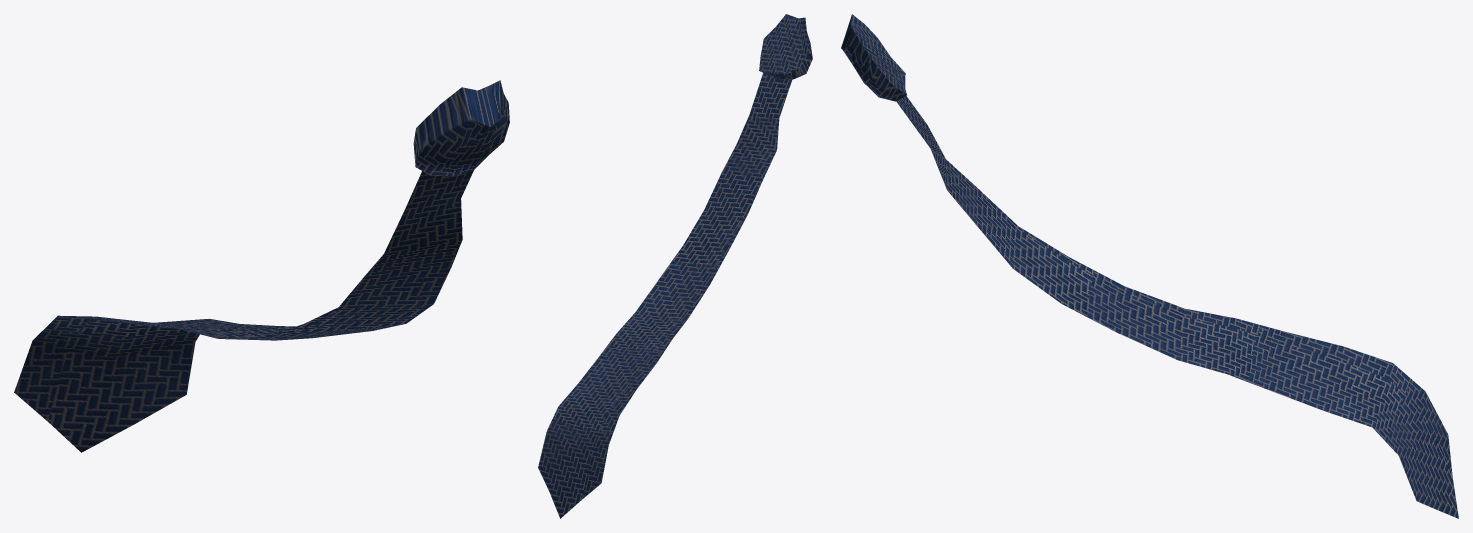
Rendered from Pose-8_SuitTie-3.fbx.
The picture shows the model from 3 angles, left to right: view 1: azimuth 30°, elevation 25°; view 2: azimuth 150°, elevation 25°; view 3: azimuth 270°, elevation 25°; orthographic projection. The views are drawn at different scales.
Visible parts, largest first — view 1: Pose-8_SuitTie-3; view 2: Pose-8_SuitTie-3; view 3: Pose-8_SuitTie-3.
Part boxes in pixels (x1=…): Pose-8_SuitTie-3: x1=14, y1=80, x2=509, y2=452; Pose-8_SuitTie-3: x1=538, y1=14, x2=812, y2=518; Pose-8_SuitTie-3: x1=841, y1=14, x2=1458, y2=518.
Bounding box in the file's own units: 7.12 × 29.95 × 34.49.
